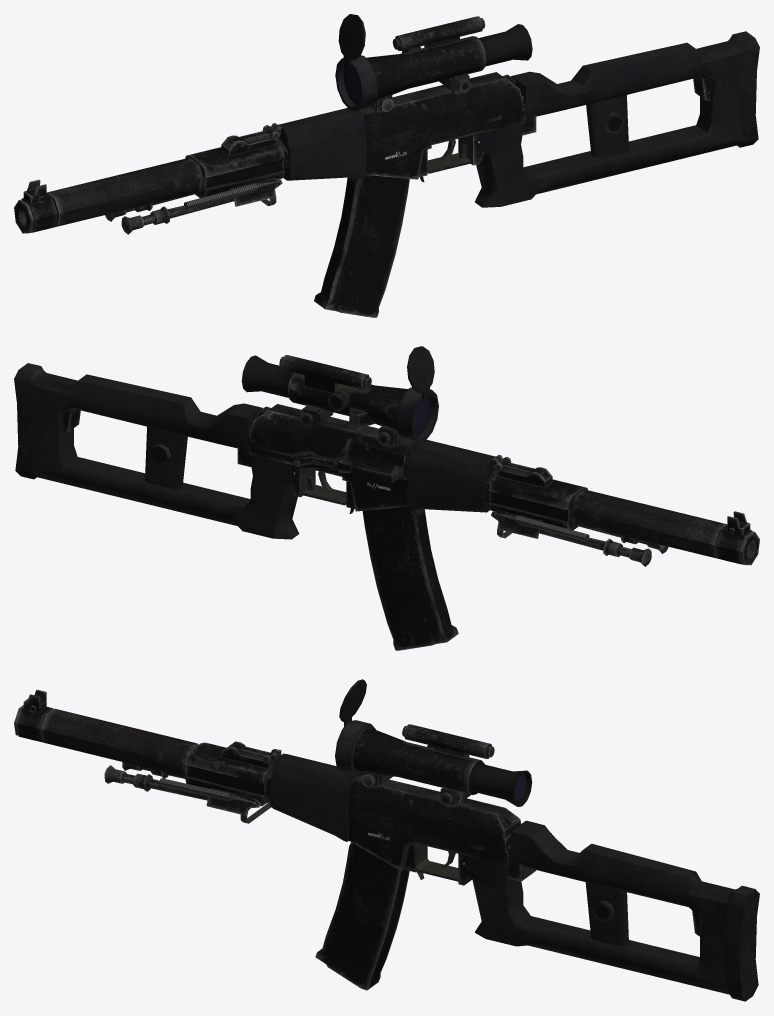
The model's file is VSS.fbx.
The picture shows the model from 3 angles, top to bottom: view 1: azimuth 30°, elevation 25°; view 2: azimuth 150°, elevation 25°; view 3: azimuth 330°, elevation 25°; orthographic projection.
Parts seen in each view (by area): view 1: Object_2; view 2: Object_2; view 3: Object_2.
Part boxes in pixels (box(x1,y1,x2,y2)): Object_2: box(14, 14, 759, 317); Object_2: box(14, 346, 759, 650); Object_2: box(14, 679, 759, 1001).
Size of the model in its own units: 82.39 by 32.61 by 6.18.
1 material, 1 textured.
